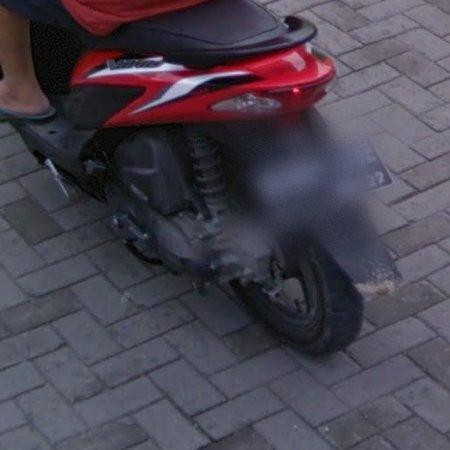motorcycles: (15, 0, 401, 355)
